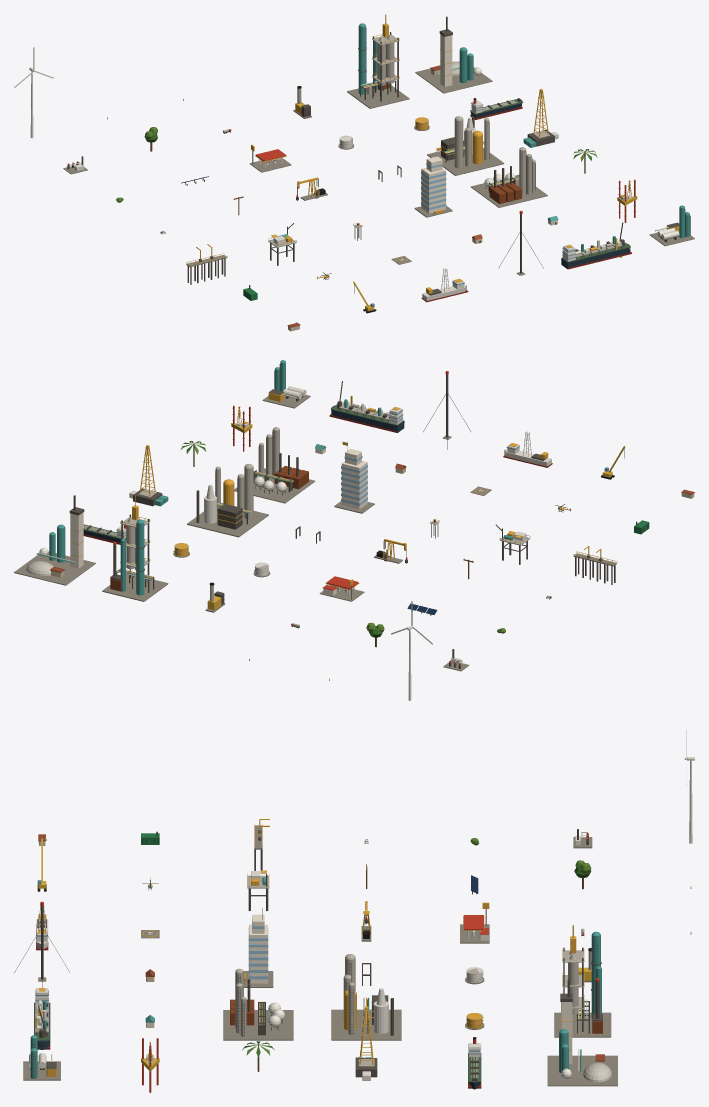
File: kit3.glb
3 renders of one model, top to bottom at view 1: azimuth 30°, elevation 25°; view 2: azimuth 150°, elevation 25°; view 3: azimuth 270°, elevation 25°, orthographic. The views are drawn at different scales.
Parts seen in each view (by area): view 1: body_upgrader, body_refinery, body_urea, body_olefins, body_office, body_fpso, body_gasplant, body_rig, body_tanker, body_jetty, body_drillship, body_station; view 2: body_refinery, body_upgrader, body_urea, body_olefins, body_office, body_fpso, body_gasplant, body_rig, body_drillship, body_jetty, body_station, body_tanker; view 3: body_upgrader, body_refinery, body_urea, body_olefins, body_office, body_gasplant, body_fpso, body_station, body_rig, body_tanker.
Boxes of the visible parts, x1,y1,x2,y2 form: body_upgrader: (347,14,409,108); body_refinery: (427,116,504,175); body_urea: (415,16,492,93); body_olefins: (470,147,547,207); body_office: (414,147,452,217); body_fpso: (561,222,631,269); body_gasplant: (649,205,694,246); body_rig: (523,89,558,147); body_tanker: (470,98,523,119); body_jetty: (186,253,227,284); body_drillship: (421,268,468,302); body_station: (249,144,291,172); body_refinery: (187,464,268,537); body_upgrader: (102,495,168,601); body_urea: (14,495,95,585); body_olefins: (234,427,315,503); body_office: (334,442,374,513); body_fpso: (329,381,404,432); body_gasplant: (262,360,310,408); body_rig: (129,445,168,506); body_drillship: (503,431,552,467); body_jetty: (573,551,617,584); body_station: (319,576,364,601); body_tanker: (83,524,126,544); body_upgrader: (554,925,611,1037); body_refinery: (331,954,401,1040); body_urea: (547,979,617,1086); body_olefins: (223,968,293,1040); body_office: (243,908,273,987); body_gasplant: (23,1035,60,1080); body_fpso: (34,988,50,1049); body_station: (460,902,489,943); body_rig: (355,1006,377,1080); body_tanker: (468,1037,481,1089).
Bounding box in the file's own units: 22.37 × 5.34 × 25.19.
